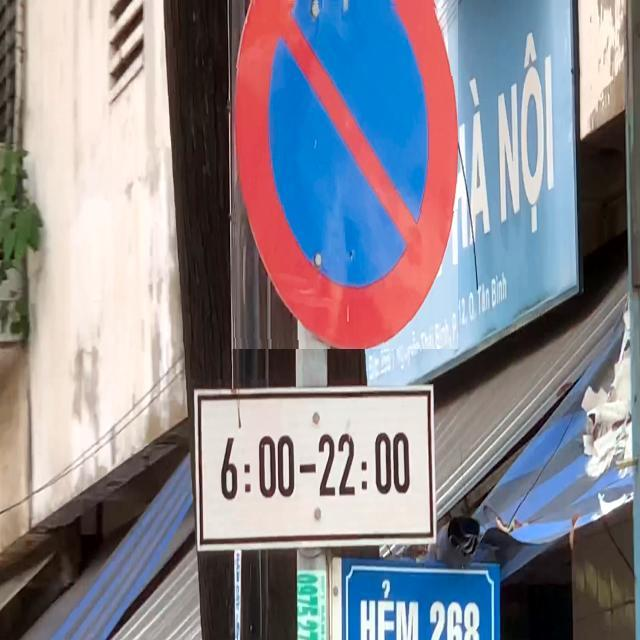P-131a: (232, 0, 458, 349)
